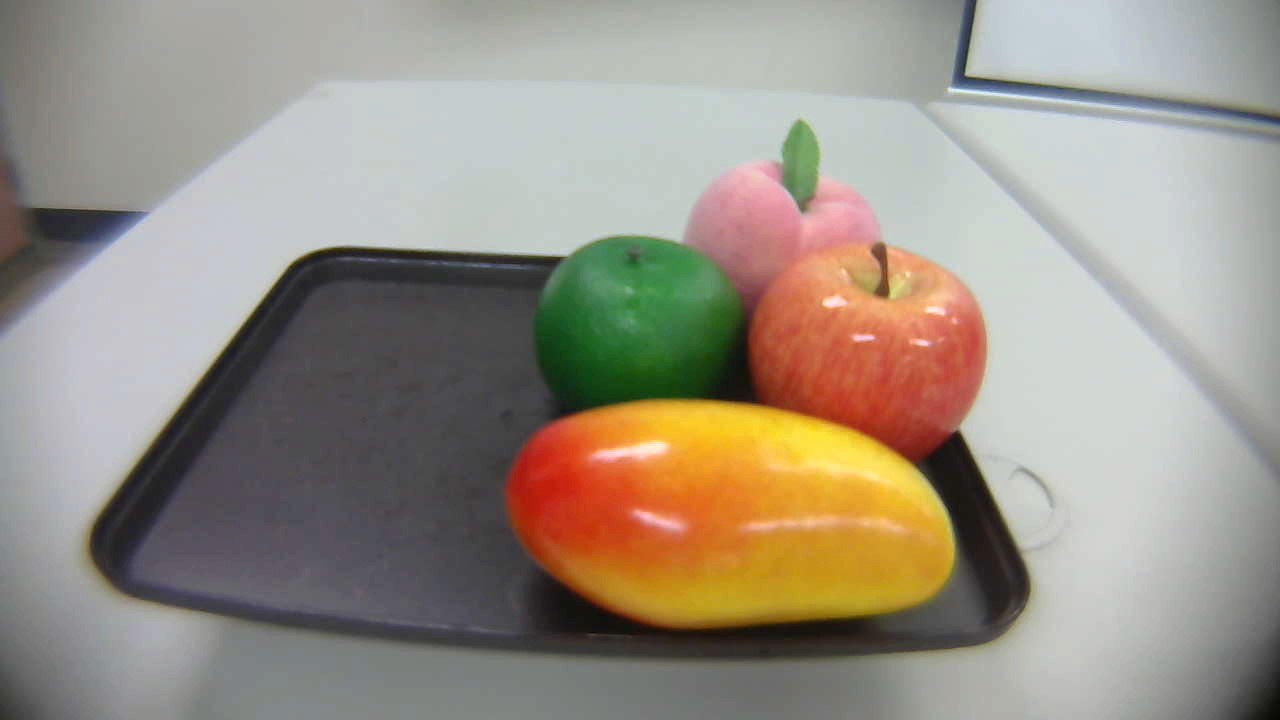green orange: (530, 231, 745, 413)
peach: (682, 121, 880, 313)
red apple: (745, 233, 983, 464)
red mango: (507, 383, 962, 621)
